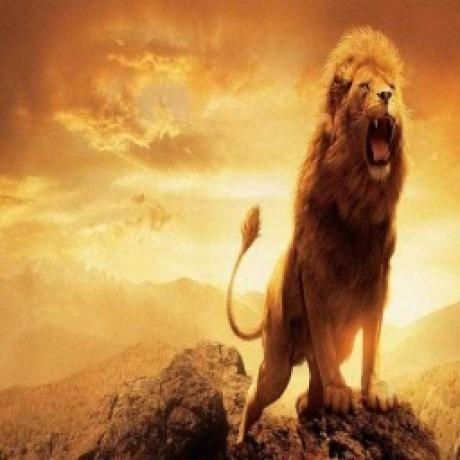Lion: (224, 22, 408, 446)
